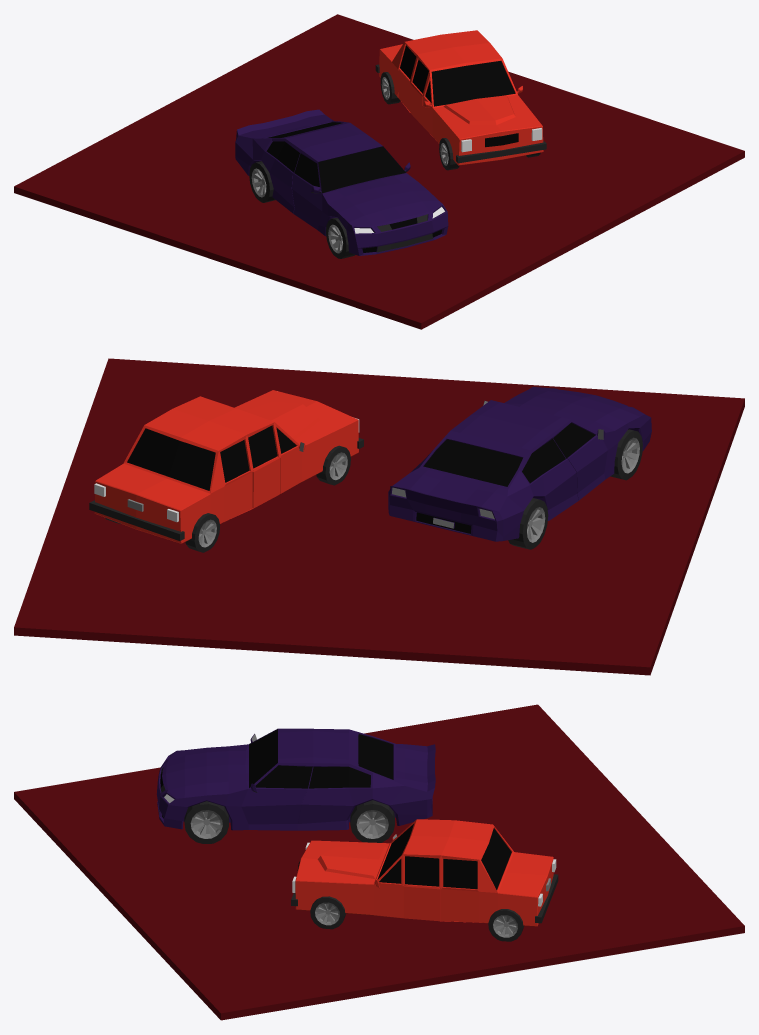
File: Sport Cars.fbx
The picture shows the model from 3 angles, top to bottom: view 1: azimuth 30°, elevation 25°; view 2: azimuth 150°, elevation 25°; view 3: azimuth 270°, elevation 25°; orthographic projection. The views are drawn at different scales.
Parts seen in each view (by area): view 1: Plane, Cube, Cube.001; view 2: Plane, Cube, Cube.001; view 3: Plane, Cube, Cube.001.
Boxes of the visible parts, left/top/right/bottom form: Plane: left=14, top=14, right=744, bottom=329; Cube: left=235, top=109, right=448, bottom=258; Cube.001: left=375, top=30, right=546, bottom=170; Plane: left=14, top=358, right=744, bottom=675; Cube: left=388, top=387, right=651, bottom=549; Cube.001: left=89, top=390, right=363, bottom=552; Plane: left=14, top=704, right=744, bottom=1020; Cube: left=156, top=728, right=435, bottom=843; Cube.001: left=291, top=819, right=558, bottom=941.
Bounding box in the file's own units: 963 × 124 × 963.
